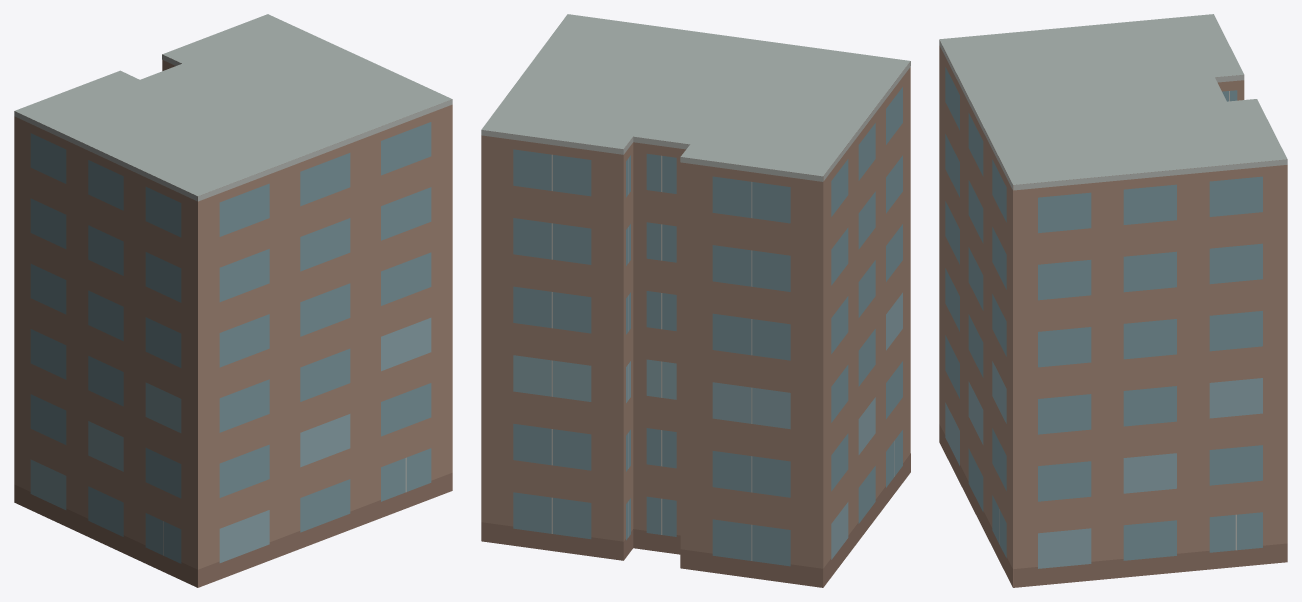
File: survey-upis-32984877.glb
3 renders of one model, left to right at view 1: azimuth 30°, elevation 25°; view 2: azimuth 150°, elevation 25°; view 3: azimuth 270°, elevation 25°, orthographic. The views are drawn at different scales.
Visible parts, largest first — view 1: survey-upis-32984877.tmp; view 2: survey-upis-32984877.tmp; view 3: survey-upis-32984877.tmp.
Boxes of the visible parts, <box> form: survey-upis-32984877.tmp: <box>14,14,452,587</box>; survey-upis-32984877.tmp: <box>481,14,910,587</box>; survey-upis-32984877.tmp: <box>939,14,1287,587</box>.
Bounding box in the file's own units: 16.4 × 18 × 14.12.
